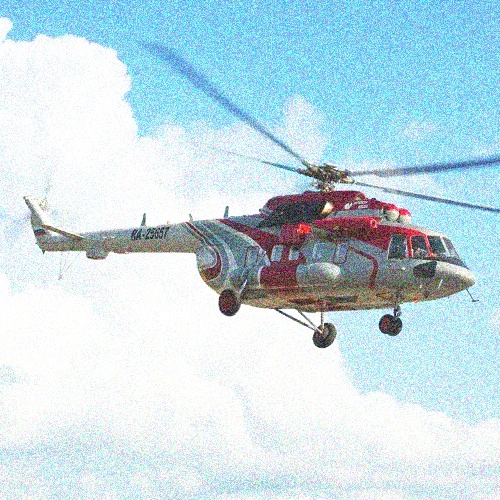Helicopter: (16, 36, 500, 355)
